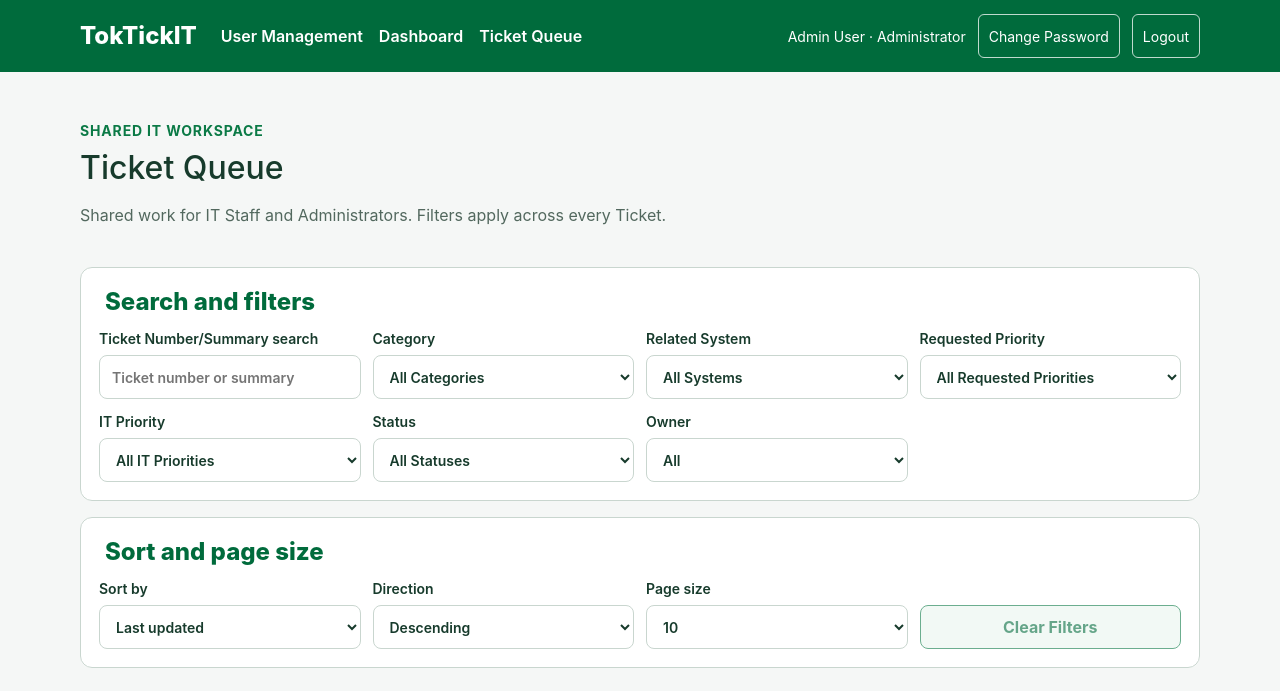
Test: UI-05 Staff Ticket Queue › allows Administrator access and preserves same-account query through integrated detail
Expected: the heading "Ticket Queue" is shown, 80,148 -> 284,187
Expected: the link "User Management" is shown, 221,26 -> 363,46
Type "mailbox" into the field labelled "Ticket Number/Summary search" at [230, 377], box 99,355 -> 360,399
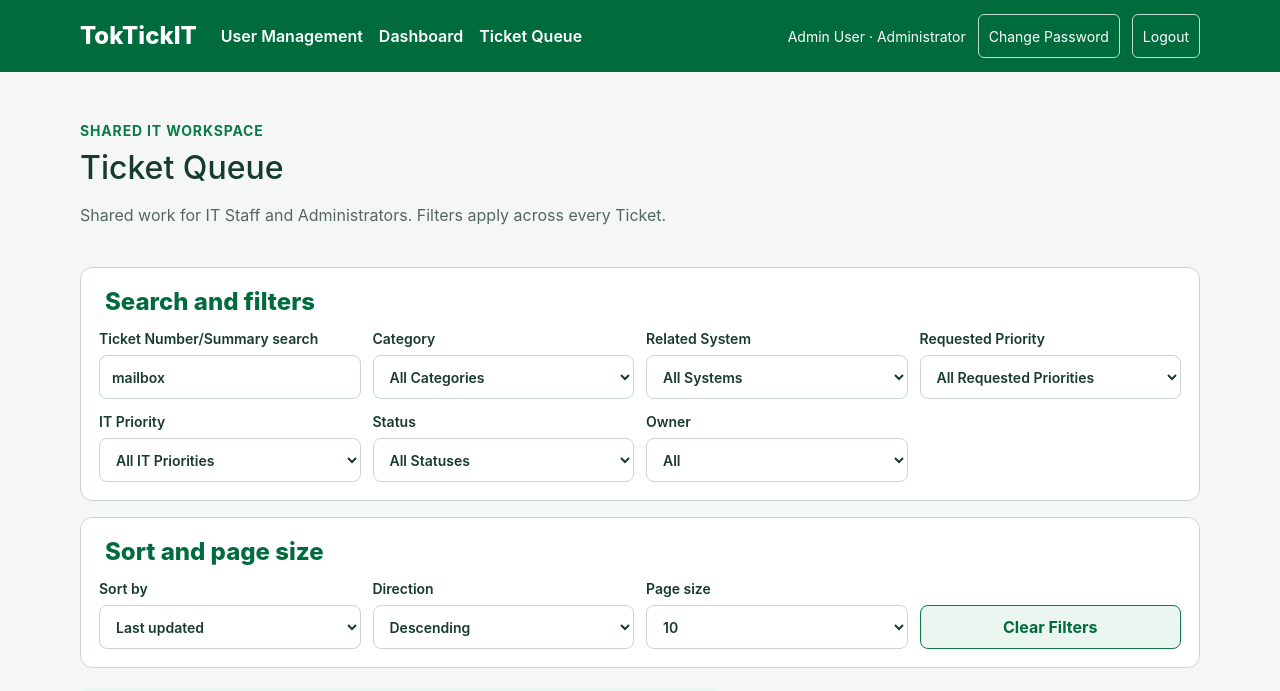
Select "Support Two" in the dropdown labelled "Owner" at [777, 460], box 646,438 -> 908,482
(page scrolled)
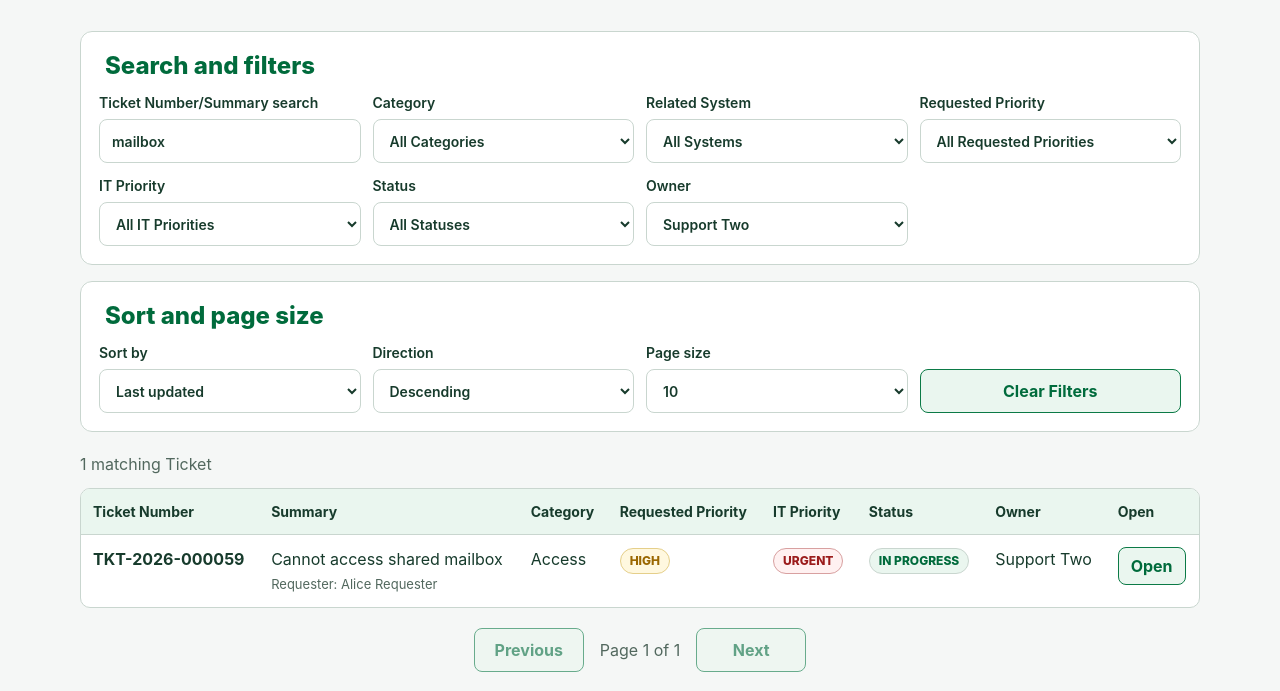
Click the button with aria-label "Open TKT-2026-000059" at [1152, 566], box 1118,547 -> 1186,585
(page scrolled)
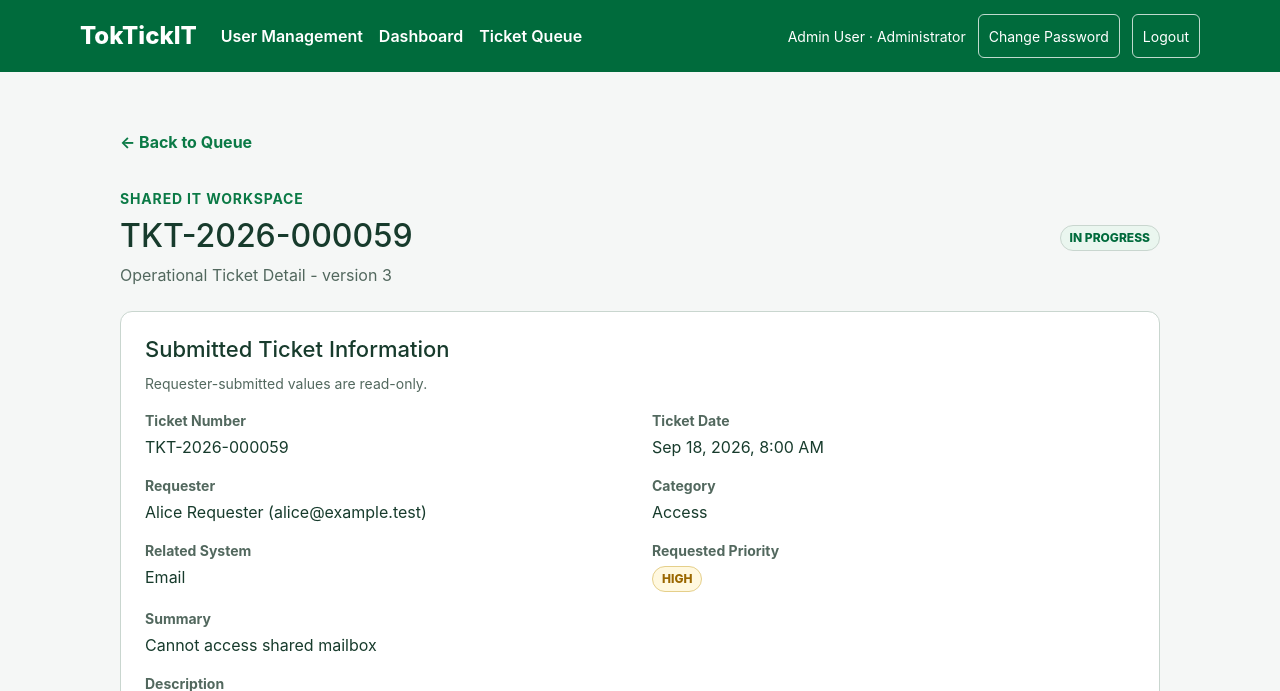
Expected: the heading "TKT-2026-000059" is shown, 120,217 -> 413,255
Click the button "<- Back to Queue" at [186, 142], box 120,120 -> 252,164
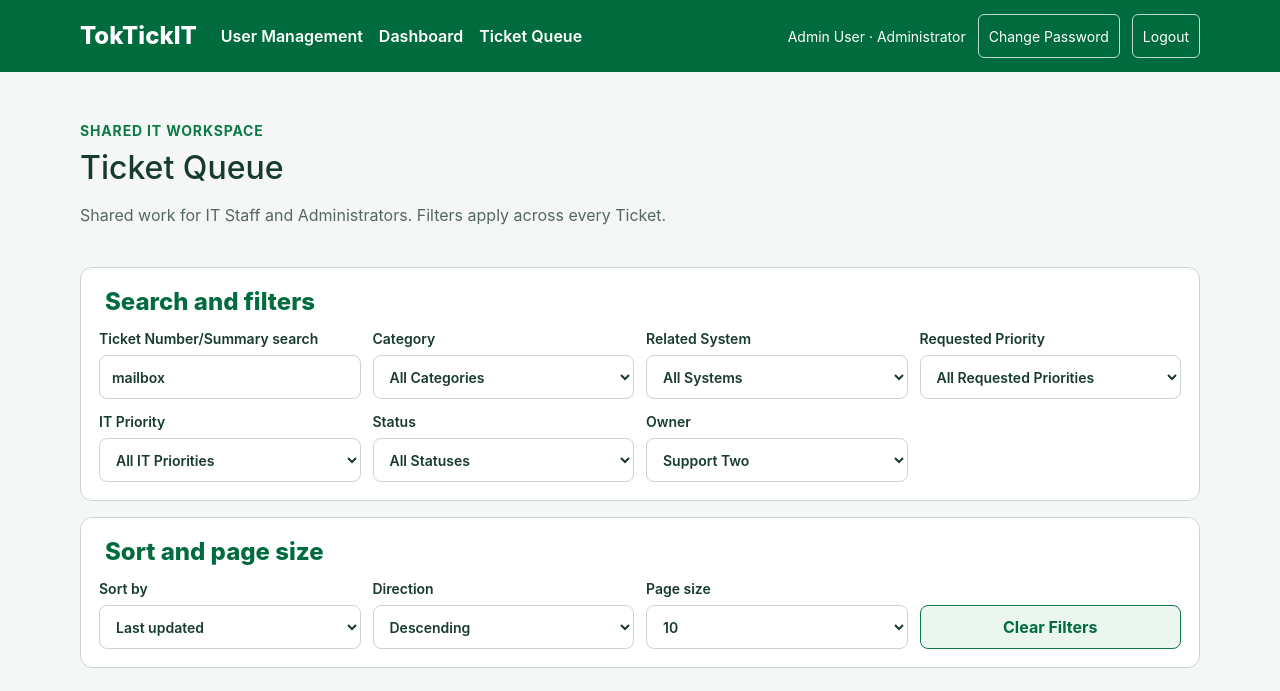
Expected: the heading "Ticket Queue" is shown, 80,148 -> 284,187
Expected: the field labelled "Ticket Number/Summary search" holds "mailbox", 99,355 -> 360,399
Expected: the dropdown labelled "Owner" shows "Support Two", 646,438 -> 908,482
